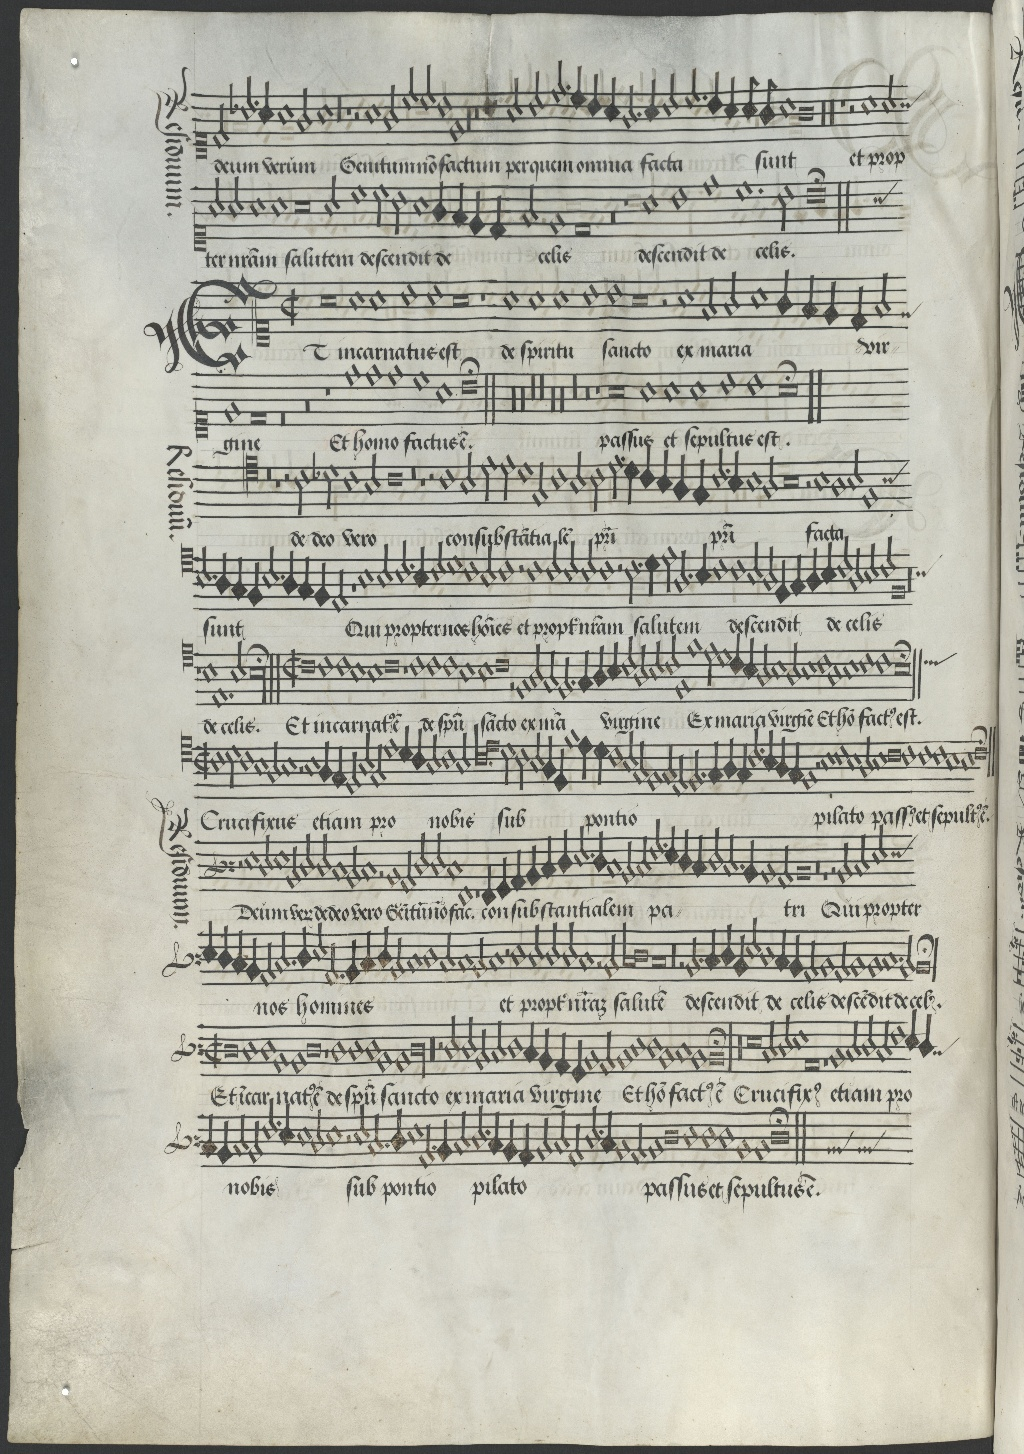barline: (803, 357, 826, 434), (479, 365, 499, 434)
breve rest: (275, 367, 290, 437), (299, 366, 314, 438), (580, 361, 593, 432)
breve_10: (244, 401, 272, 436)
breve_5: (460, 373, 482, 403)
breve_6: (772, 376, 803, 407), (603, 375, 631, 408)
c clef_11: (190, 393, 214, 438)
fermata: (767, 354, 806, 383), (453, 354, 485, 380)
longa rest: (515, 365, 530, 434), (567, 362, 581, 434), (506, 366, 520, 436), (547, 365, 561, 434), (556, 363, 569, 436), (526, 363, 539, 433), (535, 363, 547, 433)
semibreve rest: (320, 363, 335, 433), (592, 361, 605, 430)
semibreve_3: (340, 357, 363, 395), (383, 357, 407, 395), (362, 357, 385, 395)
semibreve_4: (409, 363, 428, 399)
semibreve_5: (743, 363, 768, 407), (715, 362, 740, 405)
semibreve_6: (636, 372, 661, 411), (685, 371, 709, 410), (431, 373, 454, 413), (661, 371, 682, 412)
semibreve_9: (221, 392, 245, 433)
